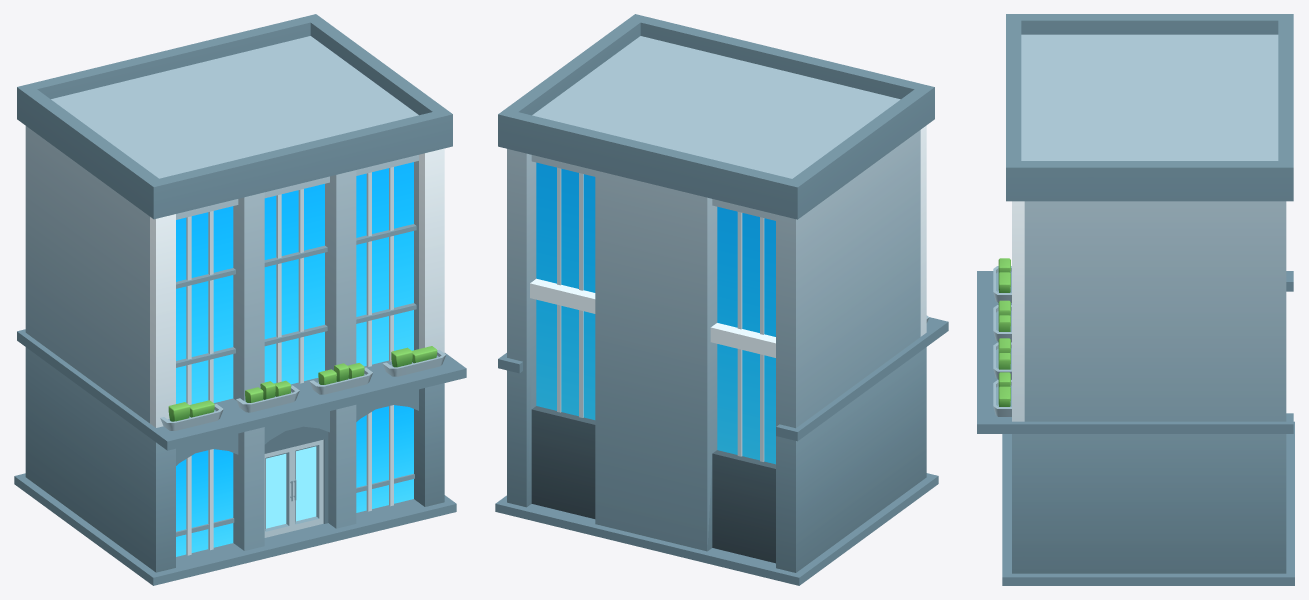
Rendered from Building_Hotel_02.glb.
3 renders of one model, left to right at view 1: azimuth 30°, elevation 25°; view 2: azimuth 150°, elevation 25°; view 3: azimuth 270°, elevation 25°, orthographic. The views are drawn at different scales.
Parts seen in each view (by area): view 1: Building_Hotel_02; view 2: Building_Hotel_02; view 3: Building_Hotel_02.
Boxes of the visible parts, x1,y1,x2,y2 form: Building_Hotel_02: (14, 14, 466, 585); Building_Hotel_02: (495, 14, 948, 585); Building_Hotel_02: (977, 14, 1294, 585).
Size of the model in its own units: 8.22 by 10.27 by 7.09.
1 material, 1 textured.
